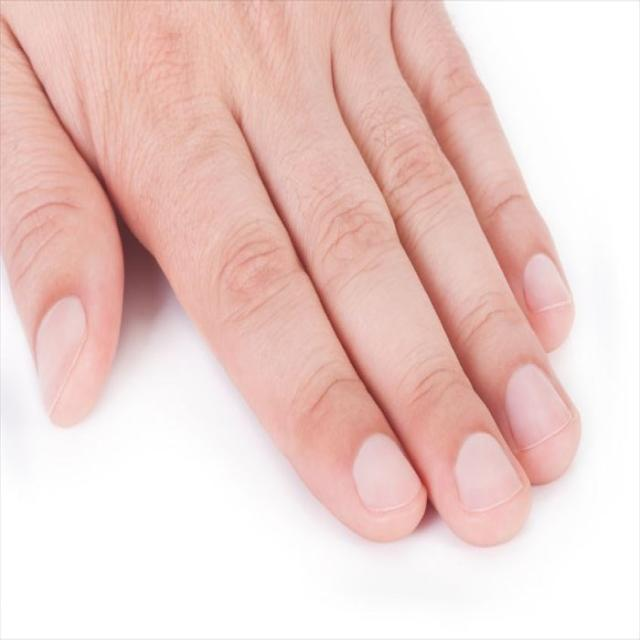Fingernail: (35, 298, 85, 409), (507, 366, 571, 450), (456, 434, 522, 512), (354, 435, 418, 512), (525, 256, 571, 313)
